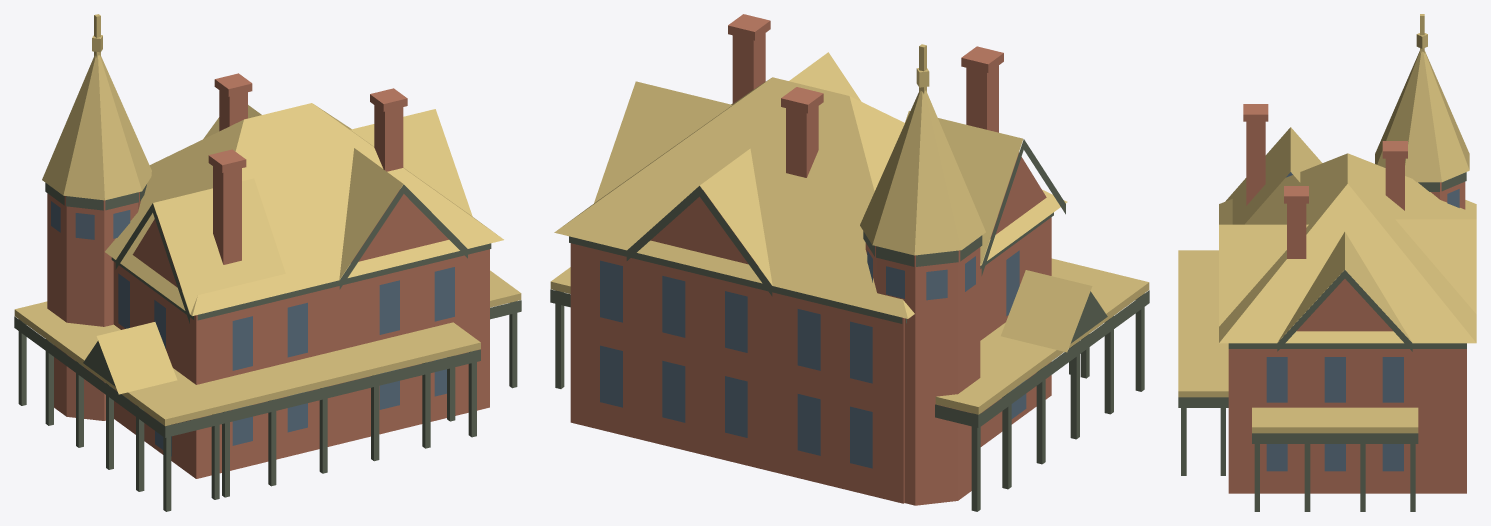
Rendered from phx-rosson-house.glb.
The picture shows the model from 3 angles, left to right: view 1: azimuth 30°, elevation 25°; view 2: azimuth 150°, elevation 25°; view 3: azimuth 270°, elevation 25°; orthographic projection. The views are drawn at different scales.
Parts seen in each view (by area): view 1: Rosson House; view 2: Rosson House; view 3: Rosson House.
Boxes of the visible parts, bbox=[...] form: Rosson House: bbox=[14, 14, 521, 511]; Rosson House: bbox=[550, 14, 1149, 511]; Rosson House: bbox=[1178, 14, 1476, 511].
Size of the model in its own units: 22.12 by 20 by 15.44.
